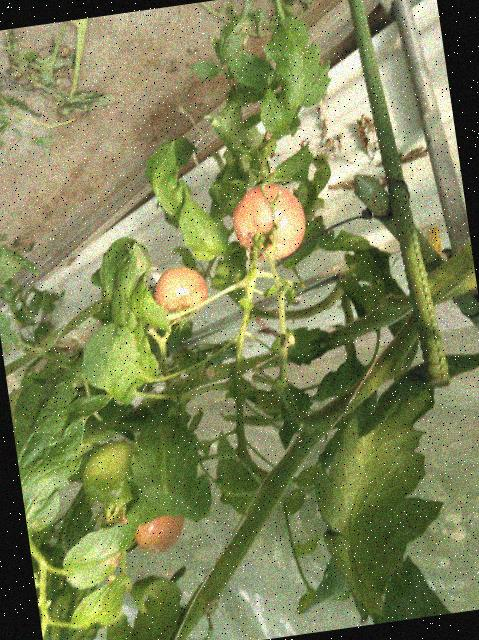b_green: (78, 438, 143, 514)
b_half_ripened: (227, 180, 309, 265), (109, 499, 188, 561), (149, 263, 210, 319)
